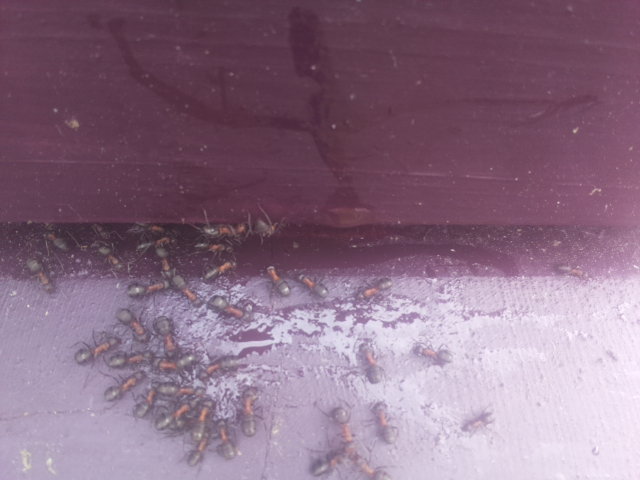ant: (305, 426, 359, 480), (65, 329, 128, 371), (86, 226, 132, 277), (146, 396, 202, 437), (147, 310, 187, 367), (198, 290, 257, 327), (20, 249, 61, 301), (110, 301, 154, 349), (352, 337, 390, 388), (368, 396, 405, 448), (185, 410, 214, 476), (257, 258, 296, 302), (347, 273, 399, 306), (289, 266, 334, 304), (101, 370, 143, 410), (236, 383, 263, 441), (215, 414, 242, 466), (130, 383, 160, 427), (124, 276, 170, 301), (106, 350, 158, 371), (196, 260, 239, 281), (554, 262, 590, 282)
